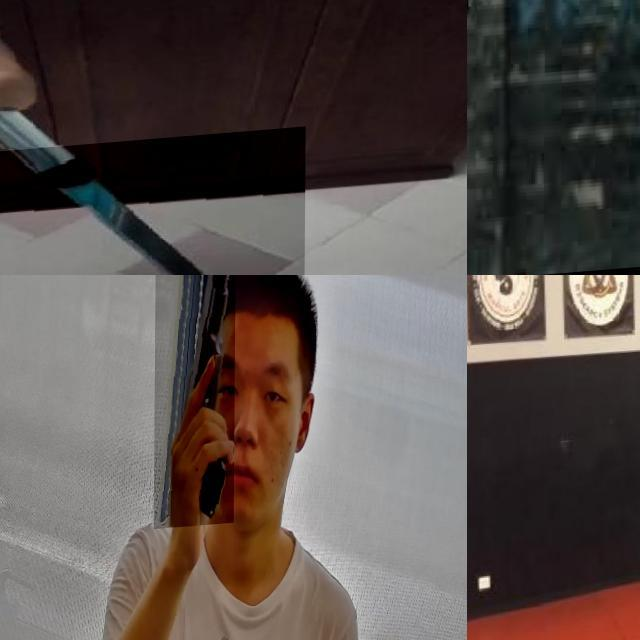-: (0, 134, 305, 275)
gun-knife-thesis - v11 Yolov5 augmented: (153, 275, 236, 533), (467, 0, 606, 133)
